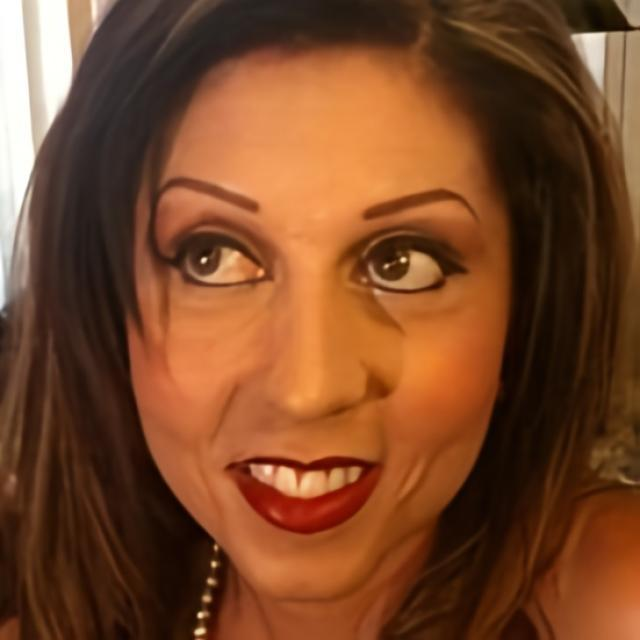surprise: (123, 40, 510, 600)
